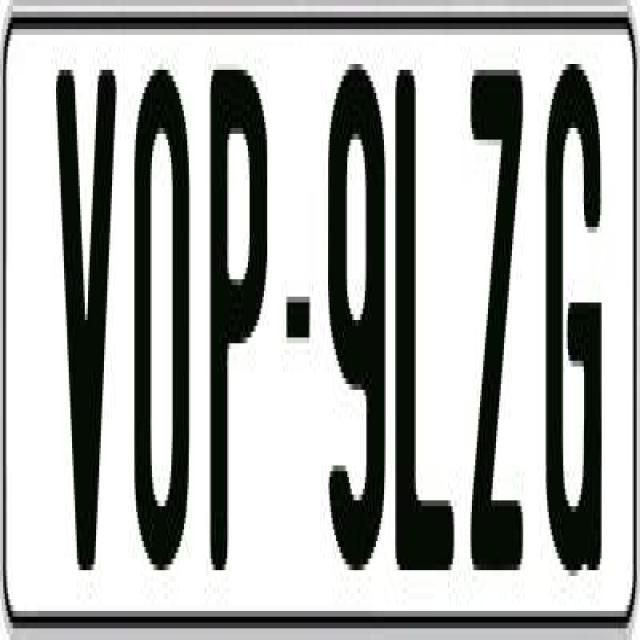0: (132, 58, 195, 582)
9: (325, 64, 389, 594)
G: (546, 64, 606, 588)
L: (390, 70, 458, 576)
P: (208, 58, 269, 559)
V: (56, 70, 117, 576)
Z: (468, 70, 526, 576)
